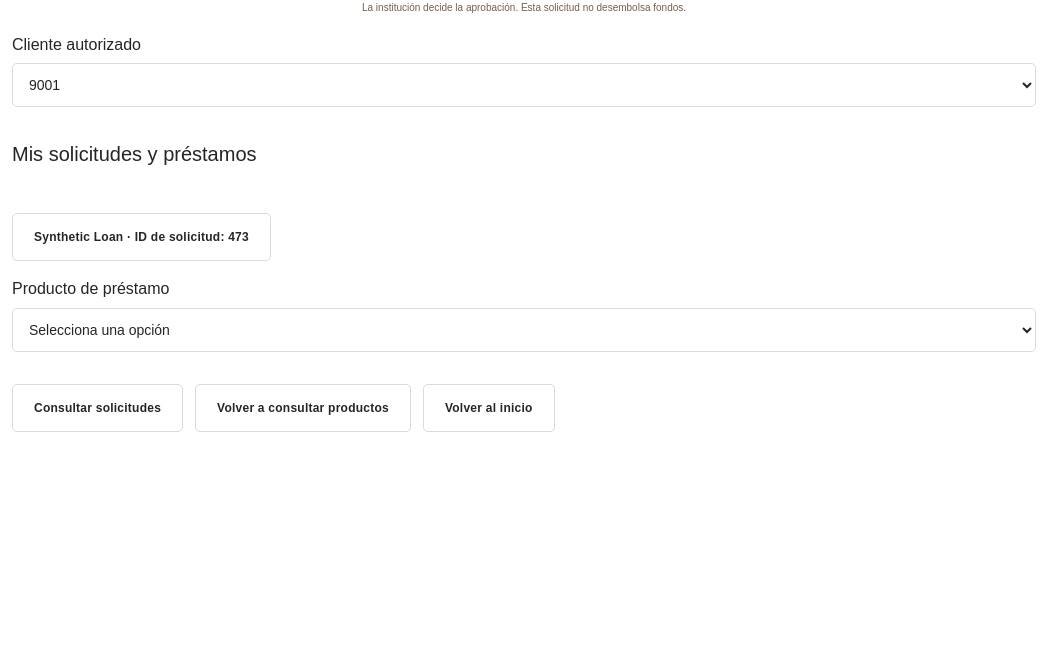
refreshes and removes pending-only actions when approval races a correction
This screenshot has width=1048, height=651.
Click the button "Synthetic Loan · ID de solicitud: 473": (141, 237) [12, 213, 271, 261]
(page scrolled)
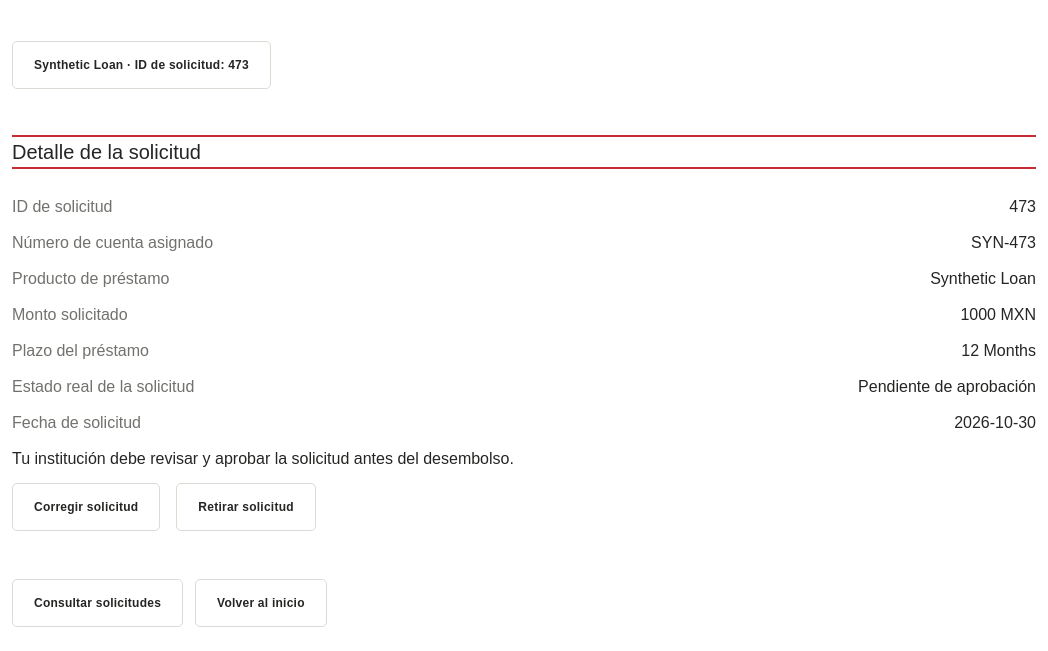
Check: the text "Pendiente de aprobación" is shown, box [858, 378, 1036, 395]
Click the button "Corregir solicitud": (86, 507) [12, 483, 160, 531]
(page scrolled)
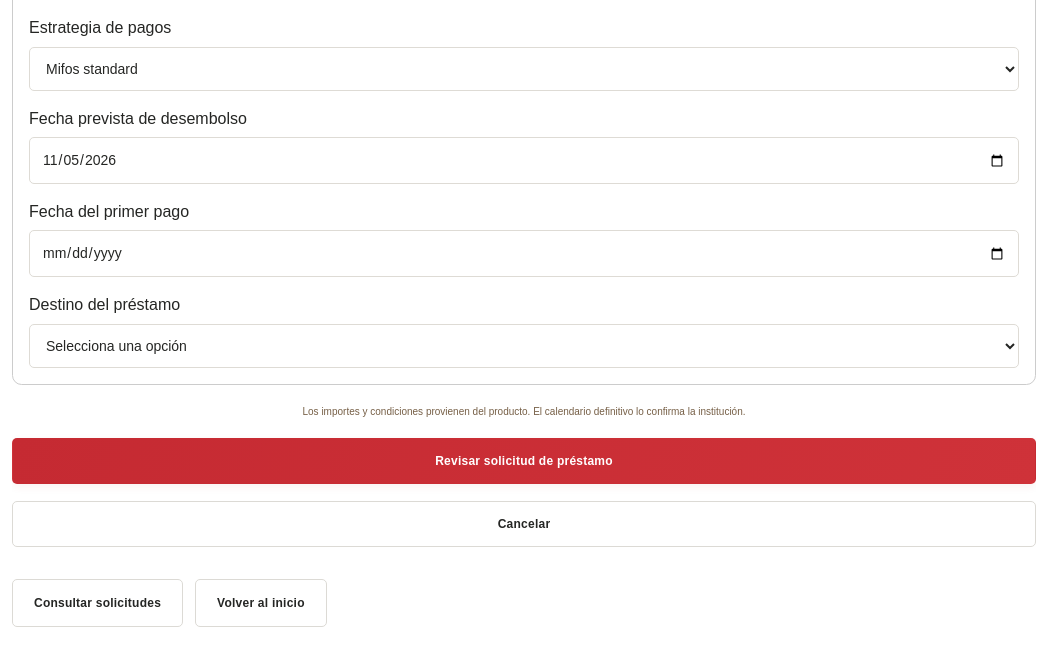
Click the button "Revisar solicitud de préstamo": (524, 461) [12, 438, 1036, 484]
(page scrolled)
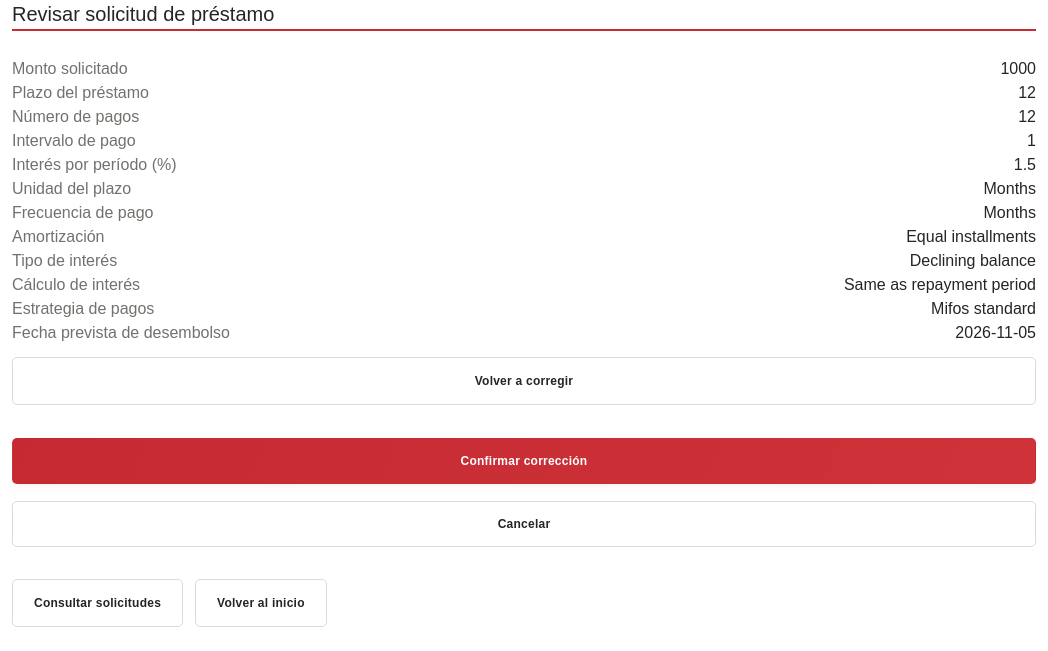
Click the button "Confirmar corrección": (524, 461) [12, 438, 1036, 484]
(page scrolled)
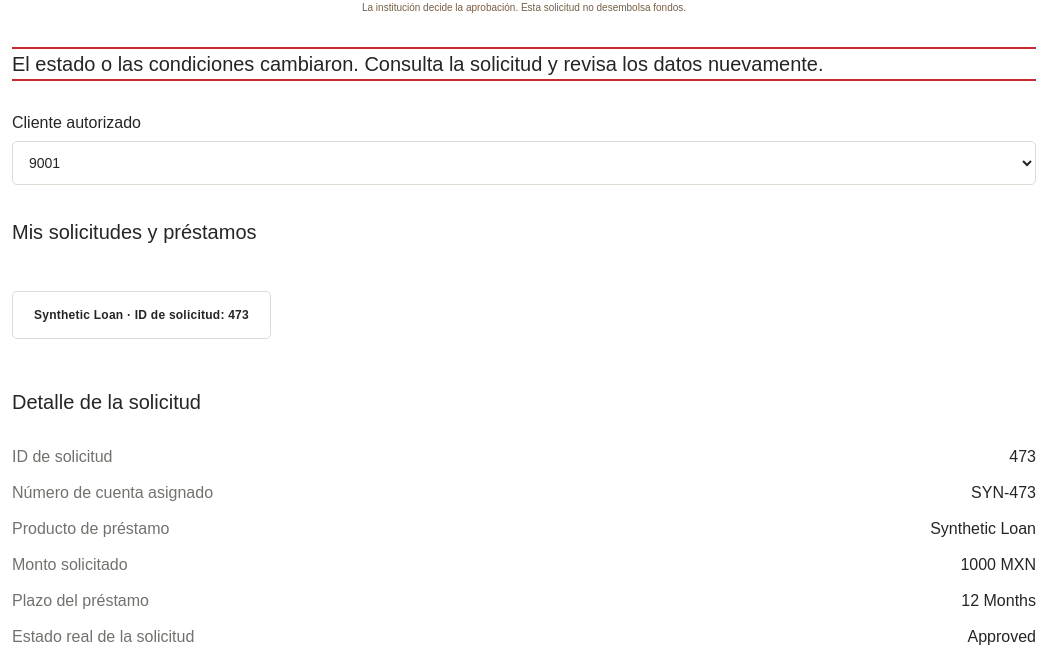
Check: the button "Corregir solicitud" is not shown
Check: the text "Approved" is shown, box [968, 628, 1036, 645]
